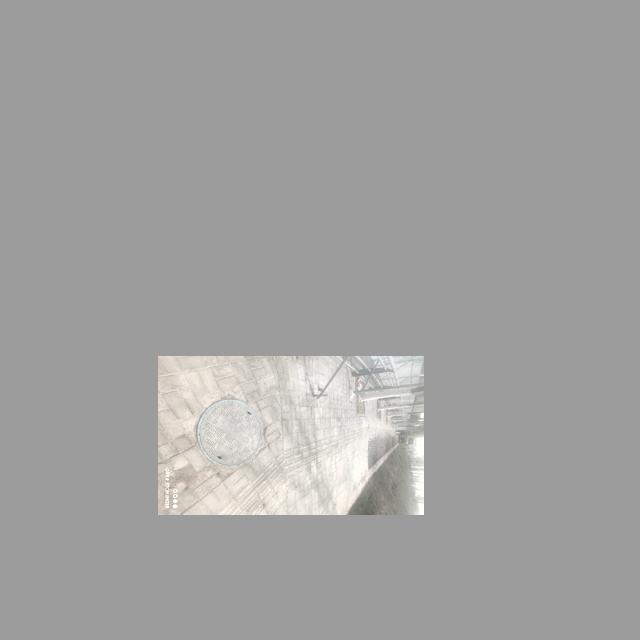good: (197, 399, 263, 467)
